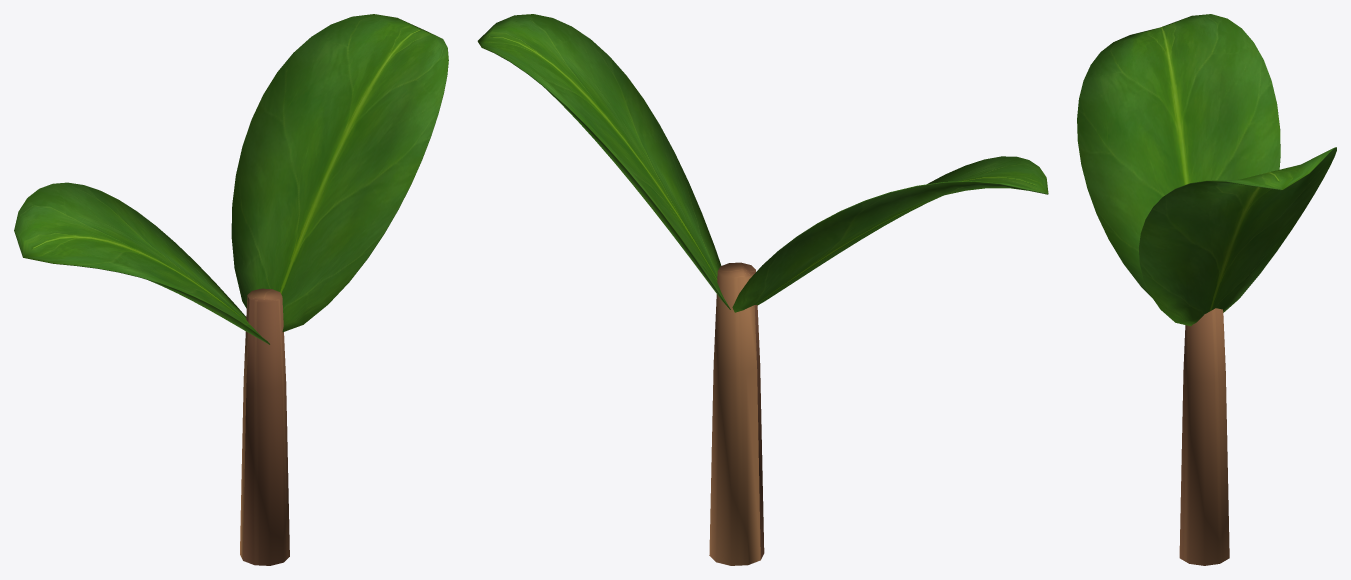
Rendered from NP_Blueberry_Sprout.fbx.
The picture shows the model from 3 angles, left to right: view 1: azimuth 30°, elevation 25°; view 2: azimuth 150°, elevation 25°; view 3: azimuth 270°, elevation 25°; orthographic projection. The views are drawn at different scales.
Visible parts, largest first — view 1: NP_Blueberry_Sprout; view 2: NP_Blueberry_Sprout; view 3: NP_Blueberry_Sprout.
Part boxes in pixels (x1,y1,x2,y2): NP_Blueberry_Sprout: (14, 14, 448, 565); NP_Blueberry_Sprout: (477, 14, 1048, 565); NP_Blueberry_Sprout: (1077, 14, 1336, 565).
Size of the model in its own units: 33.98 by 32.24 by 15.87.
